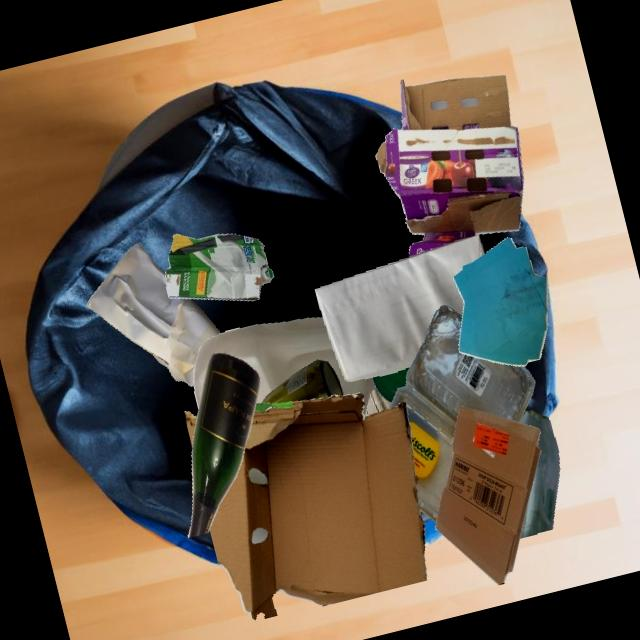cardboard: (209, 392, 427, 619), (375, 74, 523, 257), (435, 406, 541, 584), (165, 233, 274, 300)
glass: (187, 352, 259, 538), (518, 409, 559, 538), (261, 359, 343, 403), (364, 387, 391, 416)
paper: (315, 234, 484, 381), (87, 243, 220, 386), (453, 237, 547, 366)
plastic: (389, 305, 535, 522), (193, 317, 376, 415), (372, 366, 410, 403)
